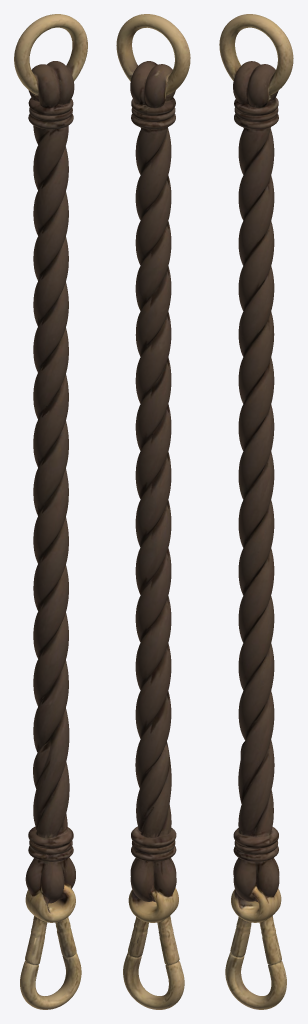
The model's file is mid_rope.glb.
3 views of the same model, side by side, from view 1: azimuth 30°, elevation 25°; view 2: azimuth 150°, elevation 25°; view 3: azimuth 330°, elevation 25° (orthographic).
Visible parts, largest first — view 1: node_0; view 2: node_0; view 3: node_0.
Part boxes in pixels (x1,y1,x2,y2): node_0: (14,14,87,1009); node_0: (116,14,190,1009); node_0: (219,14,293,1009).
Bounding box in the file's own units: 0.0903 × 1.2 × 0.0525.
1 material, 1 textured.
